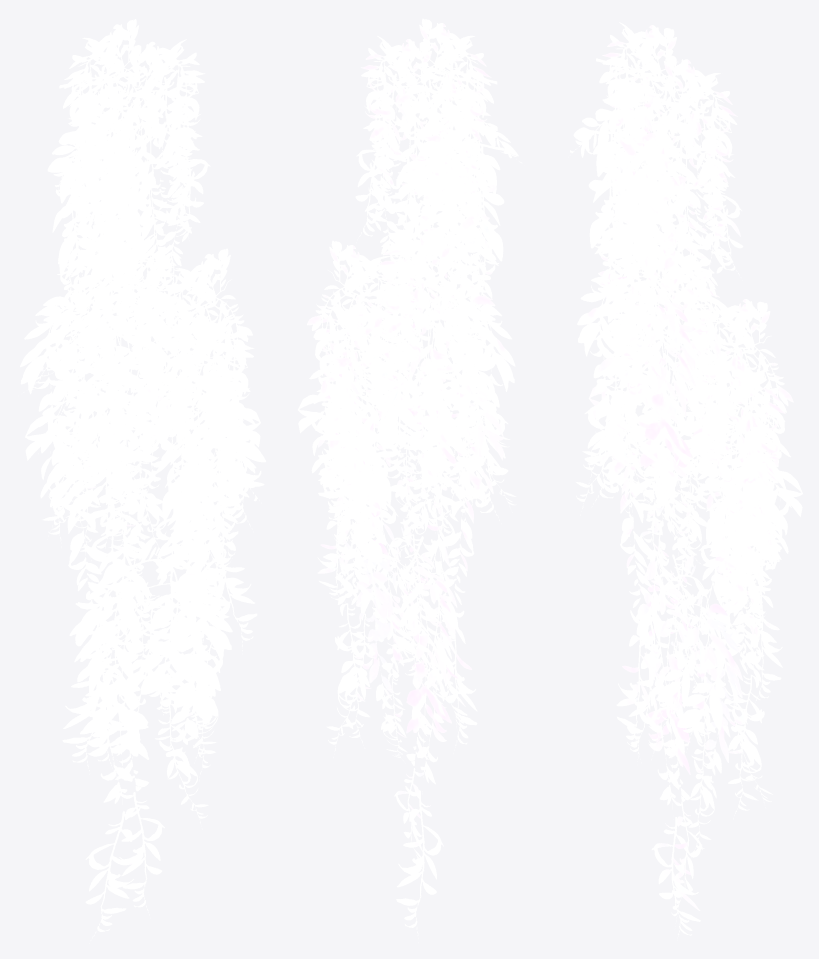
3 views of the same model, side by side, from view 1: azimuth 30°, elevation 25°; view 2: azimuth 150°, elevation 25°; view 3: azimuth 330°, elevation 25° (orthographic). The views are drawn at different scales.
Visible parts, largest first — view 1: SM_CliffTop_Ivy_02_LOD0; view 2: SM_CliffTop_Ivy_02_LOD0; view 3: SM_CliffTop_Ivy_02_LOD0.
Part boxes in pixels (bbox=[...]): SM_CliffTop_Ivy_02_LOD0: bbox=[20, 19, 265, 943]; SM_CliffTop_Ivy_02_LOD0: bbox=[298, 18, 522, 942]; SM_CliffTop_Ivy_02_LOD0: bbox=[568, 22, 802, 940].
Size of the model in its own units: 5.28 by 19.9 by 2.59.
1 material, 1 textured.
